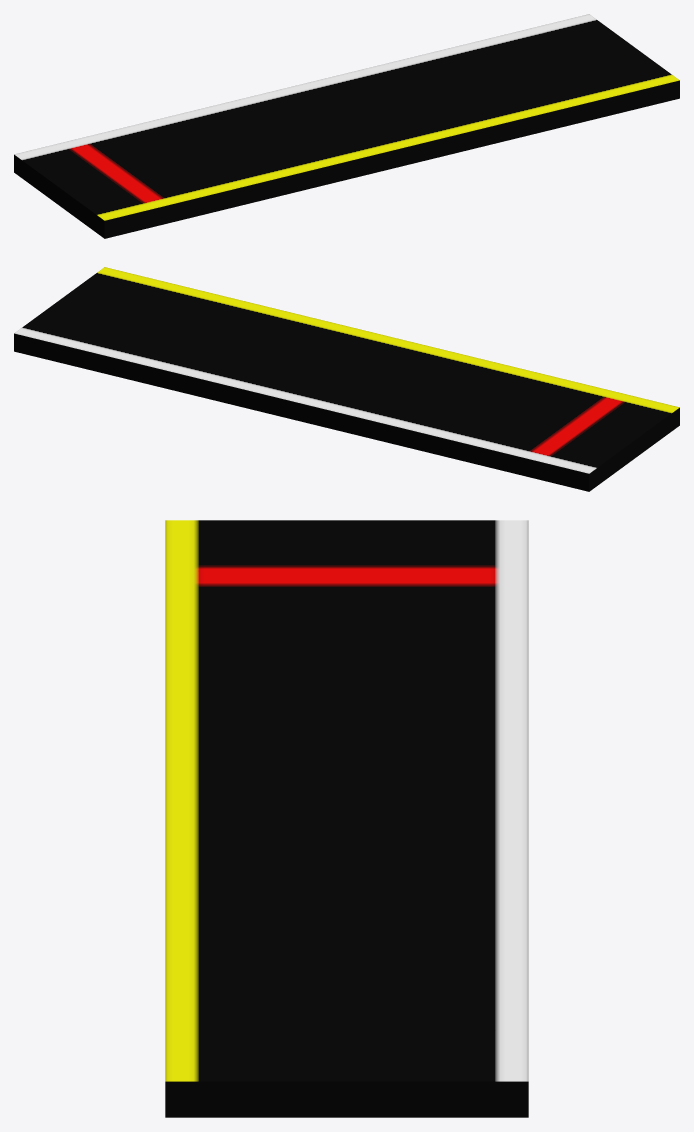
Rendered from Panel_R01_C02__Road_00.dae.
The picture shows the model from 3 angles, top to bottom: view 1: azimuth 30°, elevation 25°; view 2: azimuth 150°, elevation 25°; view 3: azimuth 270°, elevation 25°; orthographic projection. The views are drawn at different scales.
Visible parts, largest first — view 1: Object; view 2: Object; view 3: Object.
Part boxes in pixels (x1,y1,x2,y2): Object: (14,14,679,238); Object: (14,267,679,491); Object: (165,520,528,1117).
Size of the model in its own units: 0.999 by 0.273 by 0.03.
Materials: 2 (1 with a texture image).
